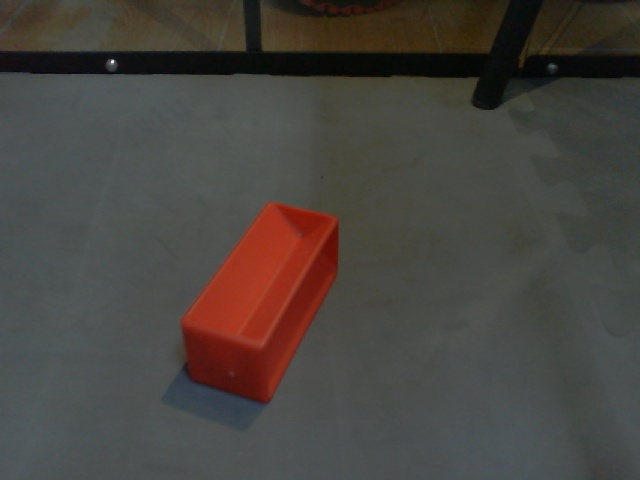RedSample: (177, 200, 341, 405)
